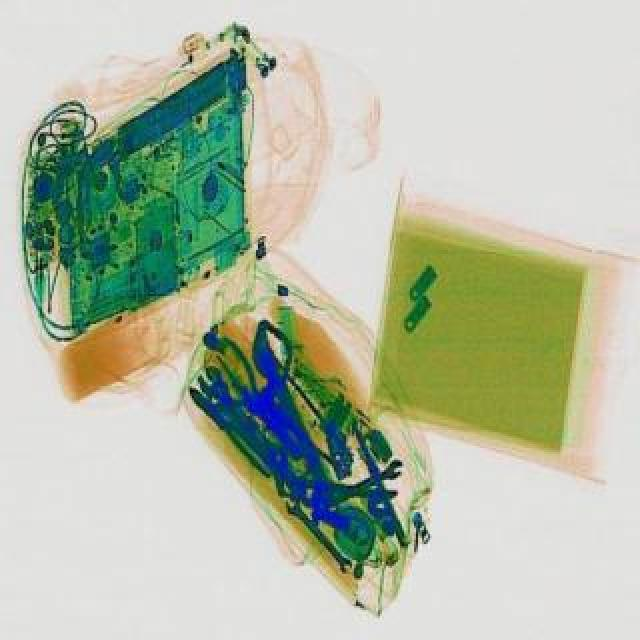scissors: (282, 490, 360, 574), (316, 456, 412, 514)
wrench: (188, 334, 300, 438)
